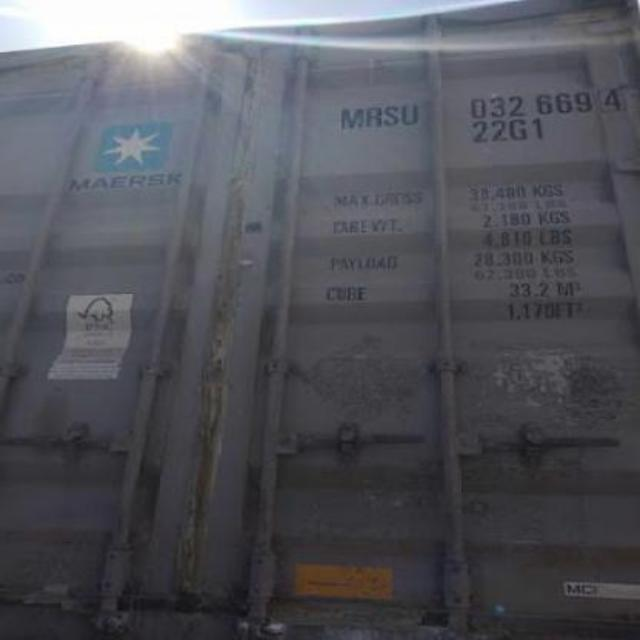0: (468, 98, 489, 118)
2: (508, 95, 526, 118)
3: (488, 95, 508, 118)
4: (602, 87, 626, 113)
6: (554, 91, 576, 112), (534, 94, 554, 115)
9: (574, 90, 596, 114)
M: (338, 108, 366, 130)
R: (364, 106, 384, 132)
S: (384, 104, 400, 128)
U: (400, 104, 420, 126)
